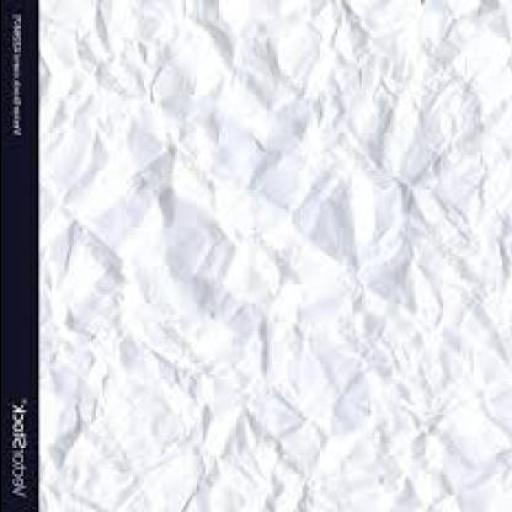paper: (38, 2, 511, 512)
